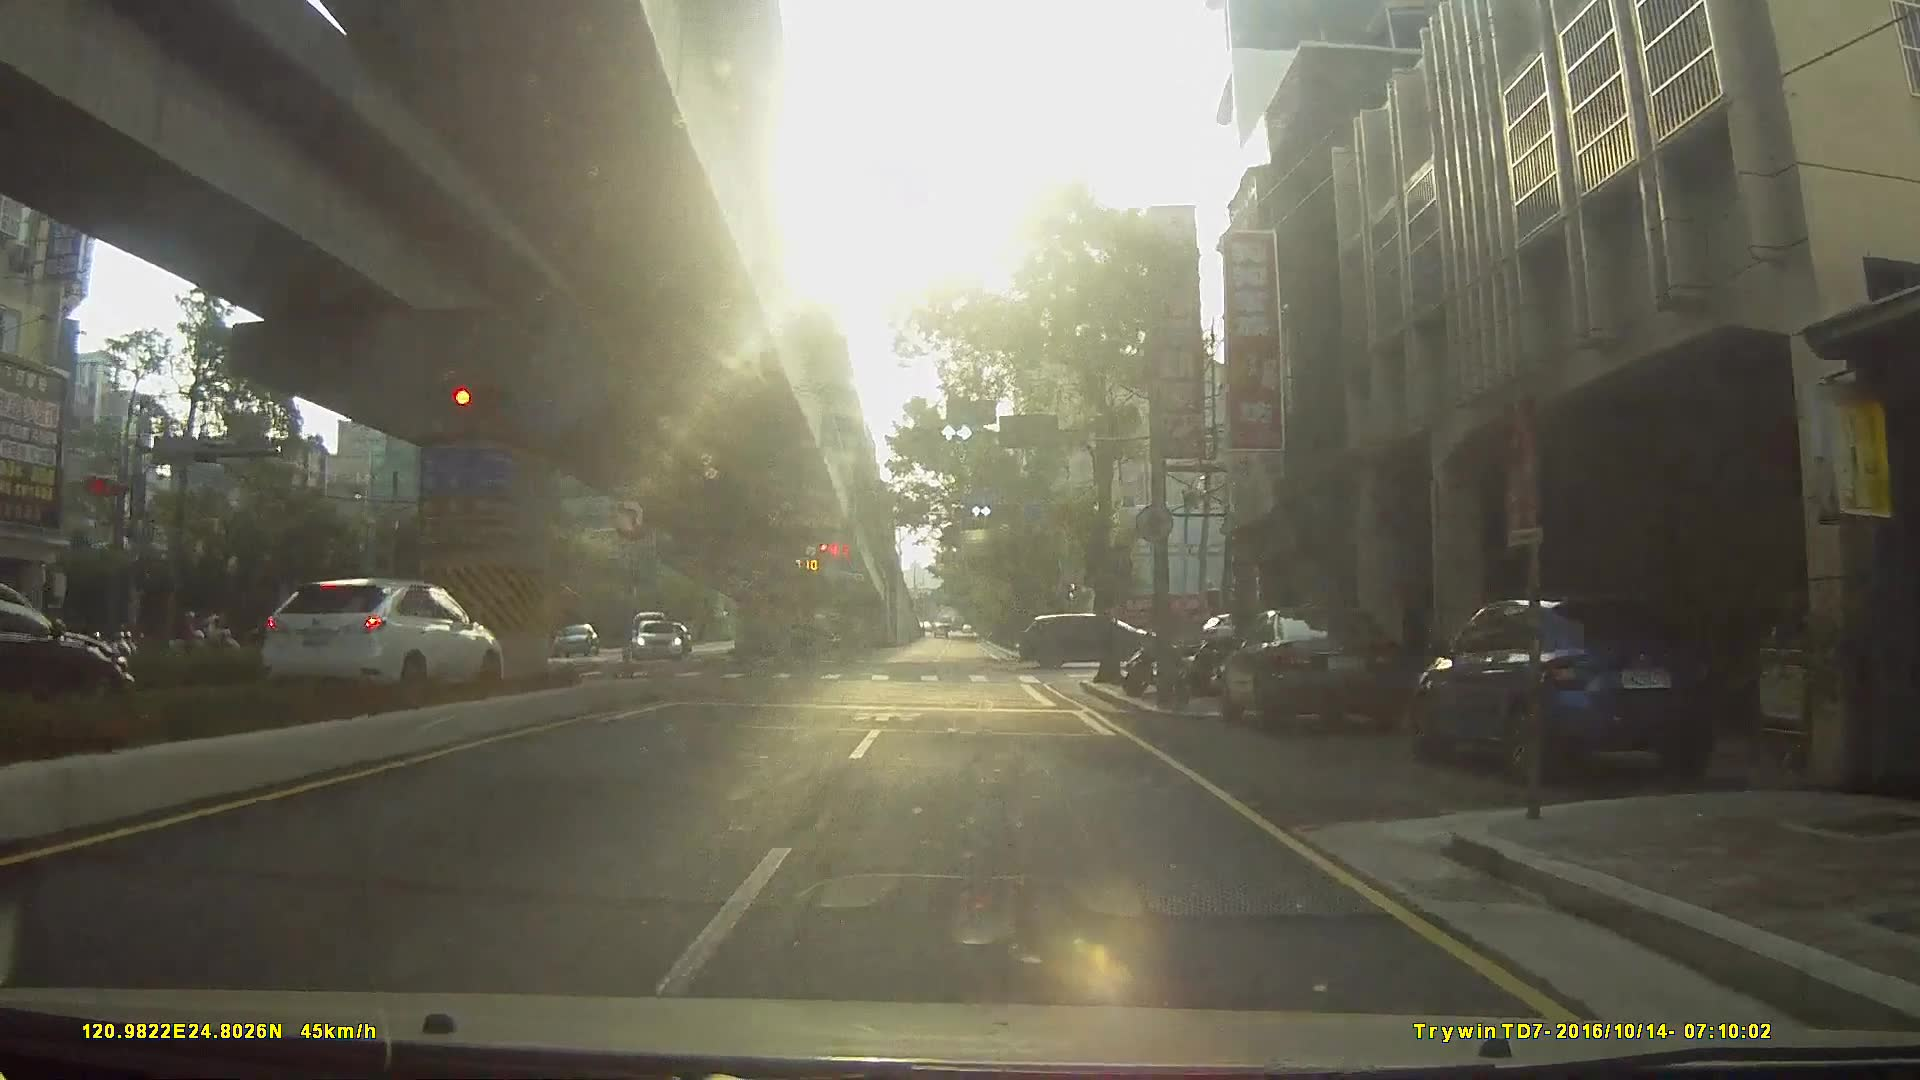vehicle: (1425, 593, 1742, 793), (237, 579, 513, 705), (1222, 604, 1423, 735), (1, 574, 142, 723), (1025, 611, 1184, 669), (630, 617, 680, 659), (545, 622, 597, 659)
